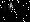person: (6, 1, 14, 15), (14, 2, 20, 15)
